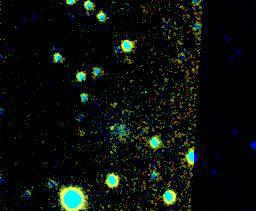star: (100, 115, 130, 145)
